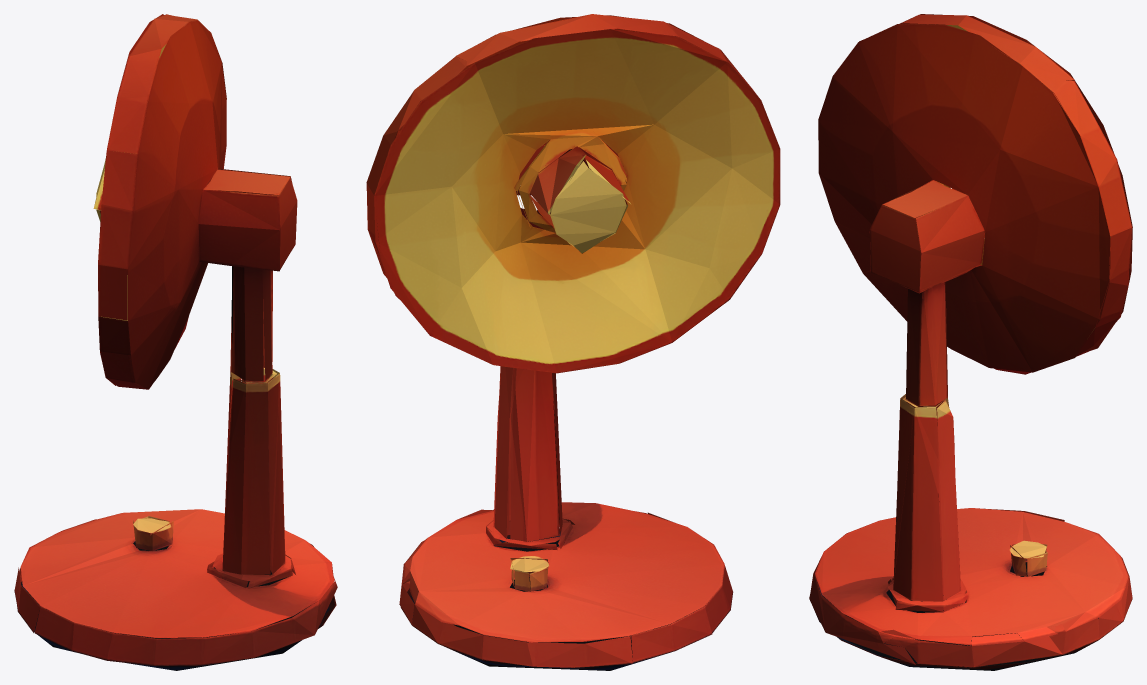
The model's file is heater.fbx.
The picture shows the model from 3 angles, left to right: view 1: azimuth 30°, elevation 25°; view 2: azimuth 150°, elevation 25°; view 3: azimuth 270°, elevation 25°; orthographic projection. The views are drawn at different scales.
Visible parts, largest first — view 1: world; view 2: world; view 3: world.
Part boxes in pixels (x1,y1,x2,y2): world: (14, 14, 337, 670); world: (366, 14, 780, 670); world: (809, 14, 1132, 670).
Bounding box in the file's own units: 51.34 × 100 × 51.12.
